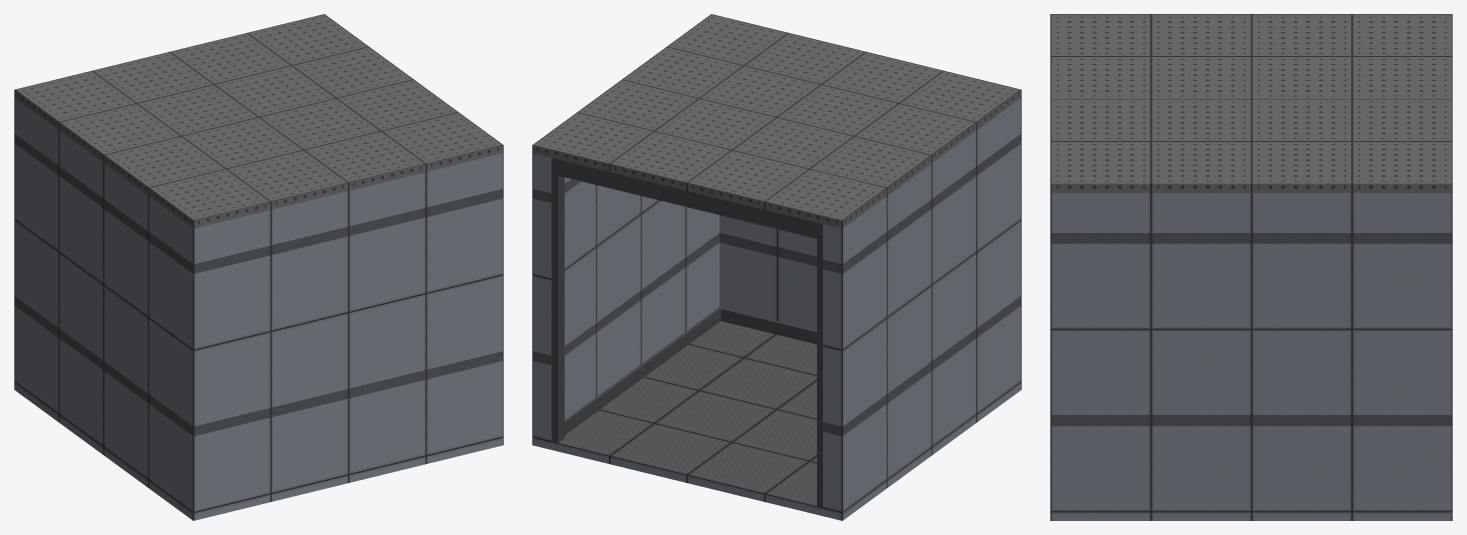
The model's file is Corridor_SciFi_End.glb.
The picture shows the model from 3 angles, left to right: view 1: azimuth 30°, elevation 25°; view 2: azimuth 150°, elevation 25°; view 3: azimuth 270°, elevation 25°; orthographic projection. The views are drawn at different scales.
Visible parts, largest first — view 1: Corridor_SciFi_End, Corridor_SciFi_End_Ceiling; view 2: Corridor_SciFi_End, Corridor_SciFi_End_Ceiling; view 3: Corridor_SciFi_End, Corridor_SciFi_End_Ceiling.
Boxes of the visible parts, box(x1,y1,x2,y2) form: Corridor_SciFi_End: box(14, 98, 503, 520); Corridor_SciFi_End_Ceiling: box(14, 14, 503, 228); Corridor_SciFi_End: box(532, 98, 1021, 520); Corridor_SciFi_End_Ceiling: box(532, 14, 1021, 238); Corridor_SciFi_End: box(1050, 193, 1452, 520); Corridor_SciFi_End_Ceiling: box(1050, 14, 1452, 192).
Size of the model in its own units: 4 by 3.7 by 4.
Materials: 6 (3 with a texture image).
